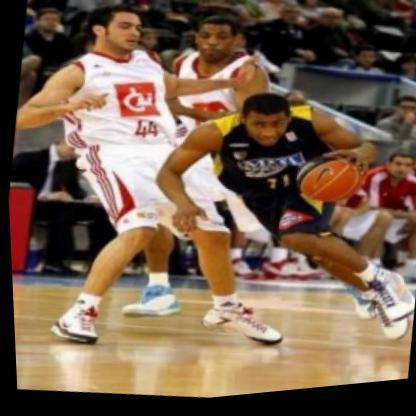basketball: (288, 155, 362, 217)
